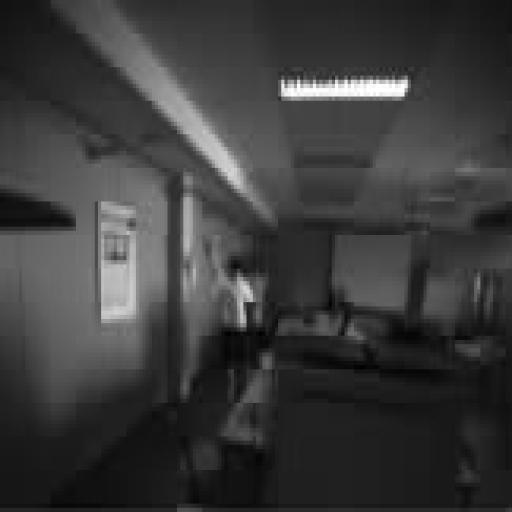human: (215, 256, 255, 398)
